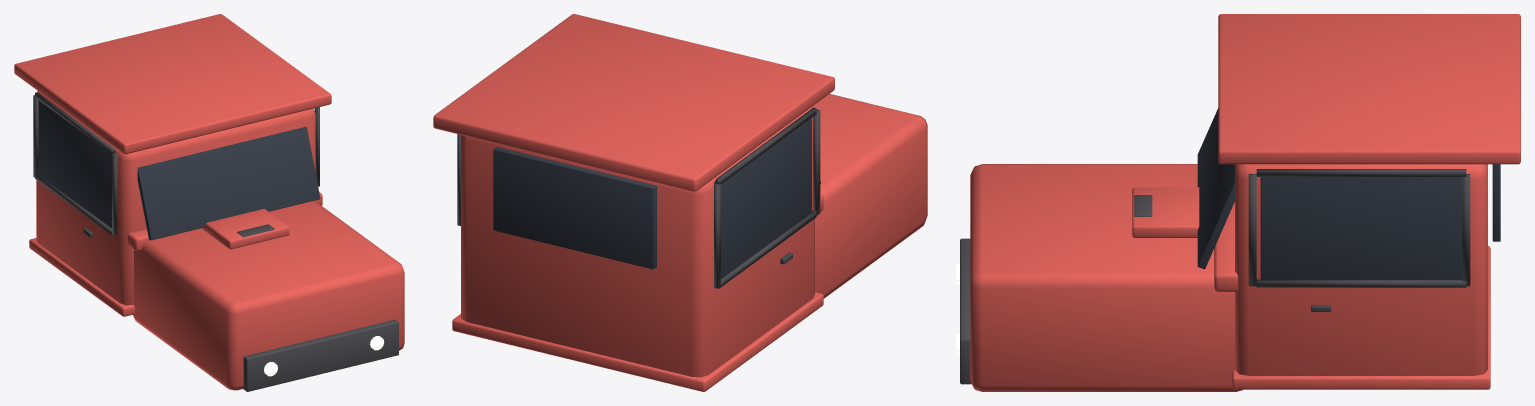
Rendered from crawler_body.glb.
3 renders of one model, left to right at view 1: azimuth 30°, elevation 25°; view 2: azimuth 150°, elevation 25°; view 3: azimuth 270°, elevation 25°, orthographic. The views are drawn at different scales.
Parts seen in each view (by area): view 1: crawler-body, glass, grille, trim; view 2: crawler-body, glass, trim; view 3: crawler-body, glass, trim, grille.
Boxes of the visible parts, x1,y1,x2,y2 form: crawler-body: (14, 14, 404, 390); glass: (38, 100, 320, 240); grille: (243, 319, 398, 391); trim: (33, 92, 319, 237); crawler-body: (433, 14, 927, 391); glass: (493, 118, 820, 278); trim: (457, 107, 820, 288); crawler-body: (970, 14, 1520, 391); glass: (1197, 108, 1500, 279); trim: (1134, 169, 1470, 311); grille: (960, 238, 971, 384).
Size of the model in its own units: 1.62 by 1.4 by 2.8.
